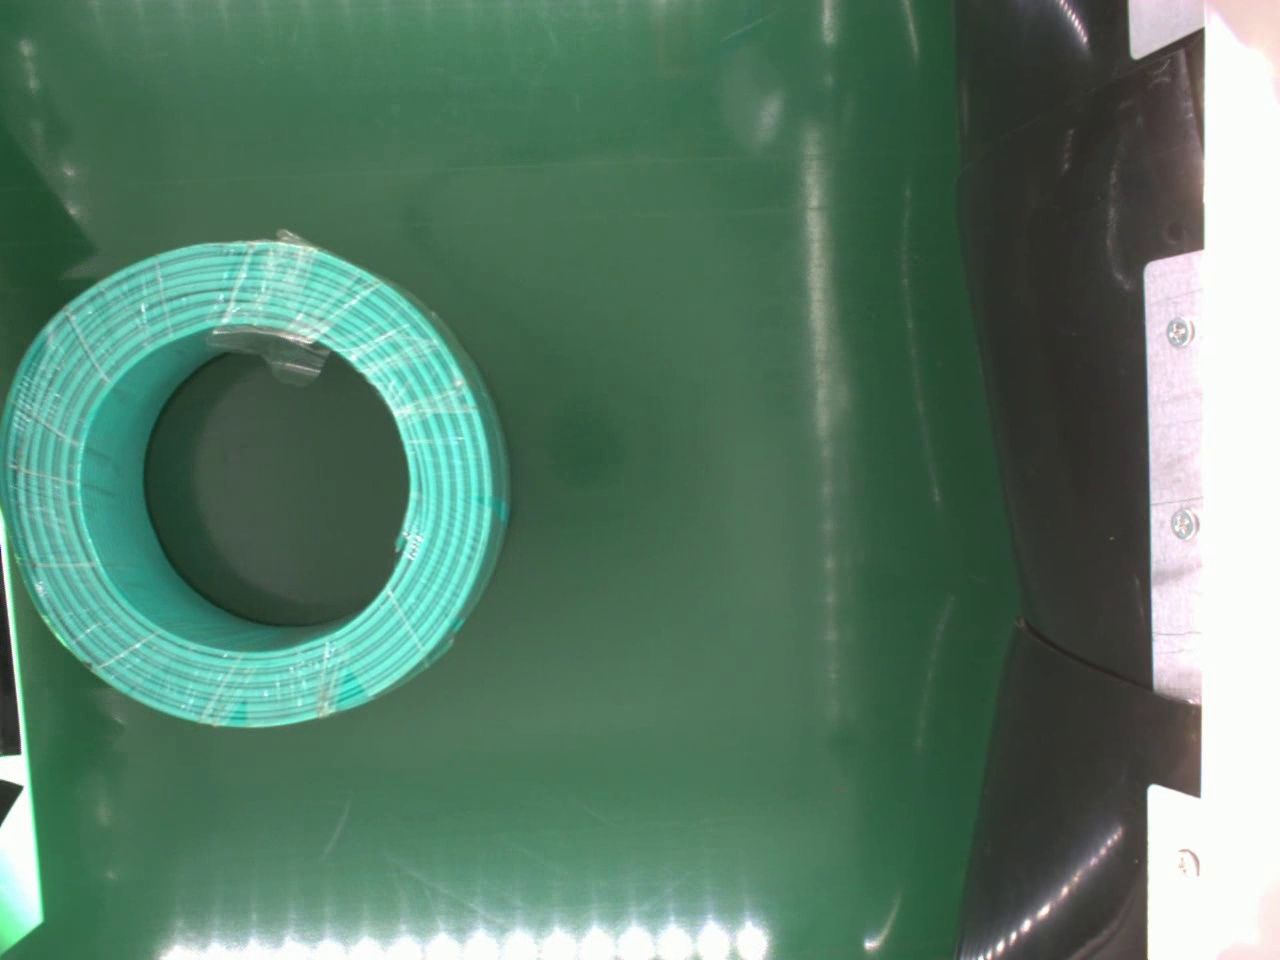green: (7, 236, 511, 731)
